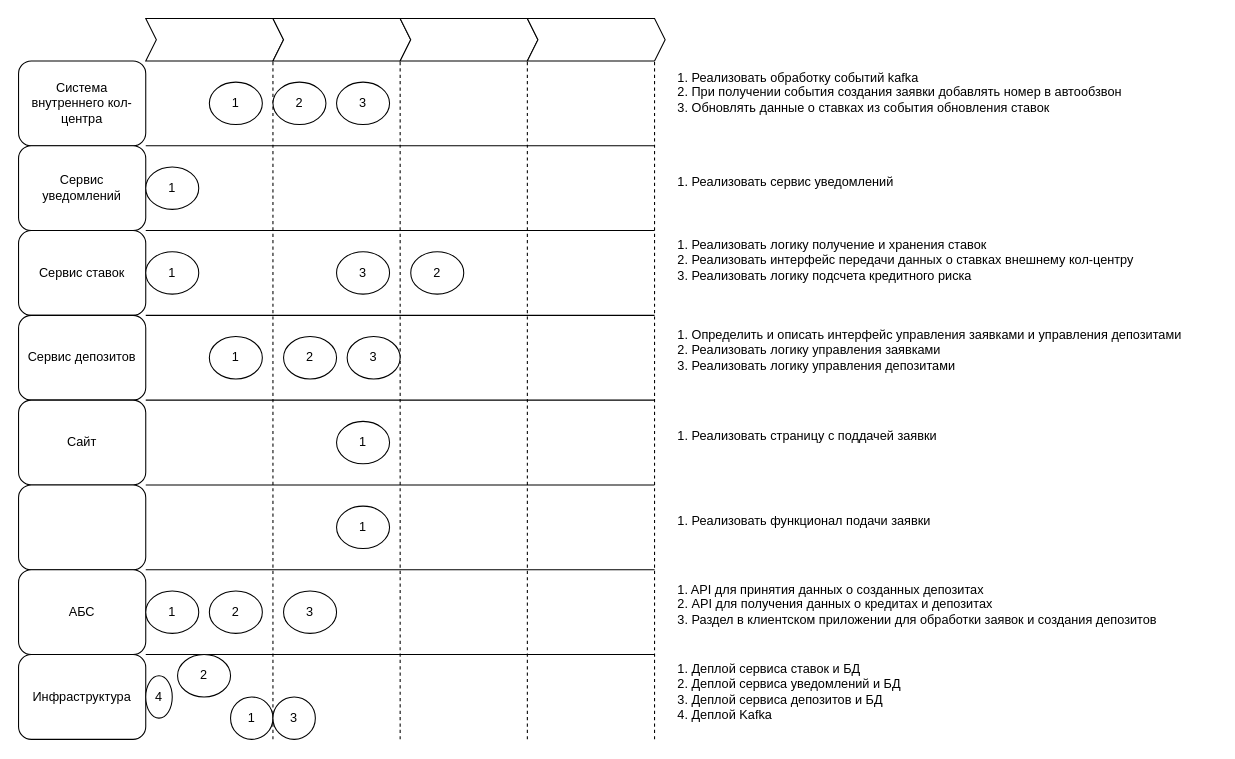
The diagram is 1235 pixels wide and 759 high, and some of its shapes have lost their labels. The centre of each missing label's shape, as x and y in pixels:
Q1: the point at 214,39
Q2: the point at 341,39
Q3: the point at 468,39
Q4: the point at 595,39
интернет-банк: the point at 81,527
